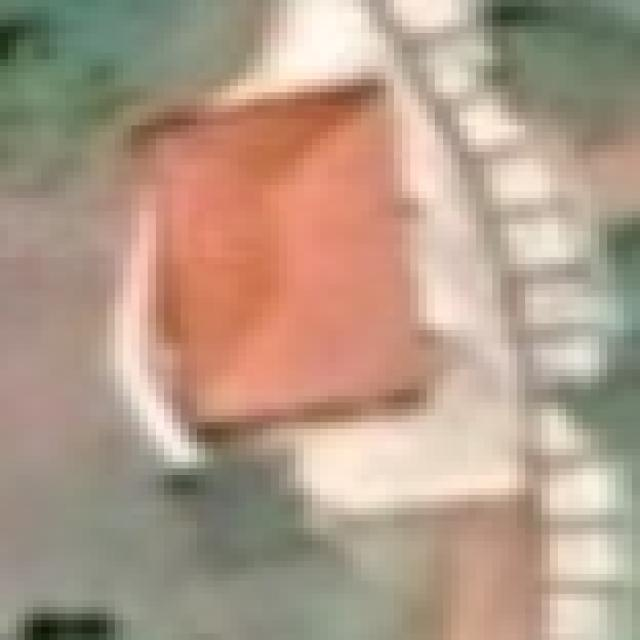Batiment: (155, 86, 420, 424)
